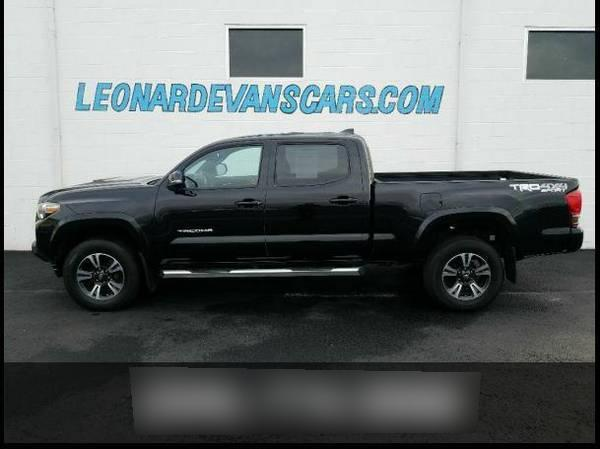Front_Bumper: (31, 215, 62, 268)
Front_Fender: (37, 190, 147, 275)
Front_Left_Door: (144, 190, 267, 271)
Front_Left_Window: (152, 134, 268, 188)
Left_Headlight: (38, 201, 61, 223)
Left_Taillight: (565, 186, 581, 220)
Rear_Bumper: (568, 227, 585, 251)
Rear_Fender: (372, 176, 579, 275)
Rear_Left_Door: (267, 186, 371, 271)
Rear_Left_Window: (266, 135, 372, 189)
Wheel: (60, 234, 135, 308), (429, 237, 503, 311)
